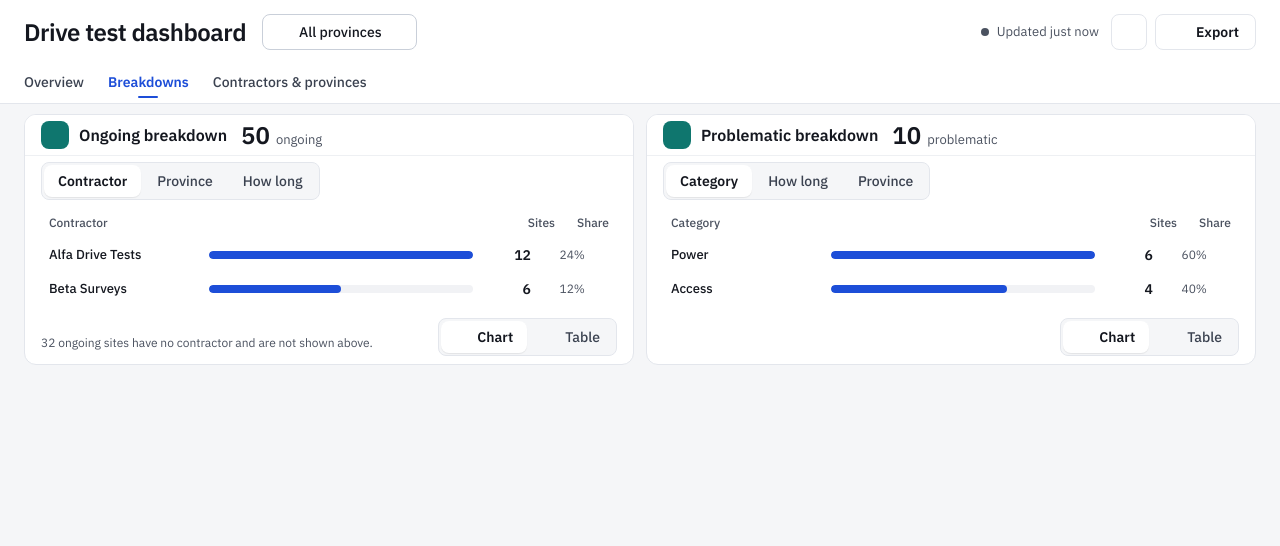
Test: breakdown sections › names the problematic sites it cannot age, rather than hiding them
Click the tab "How long" below "10" at (798, 181), box x1=754 y1=165 x2=842 y2=197
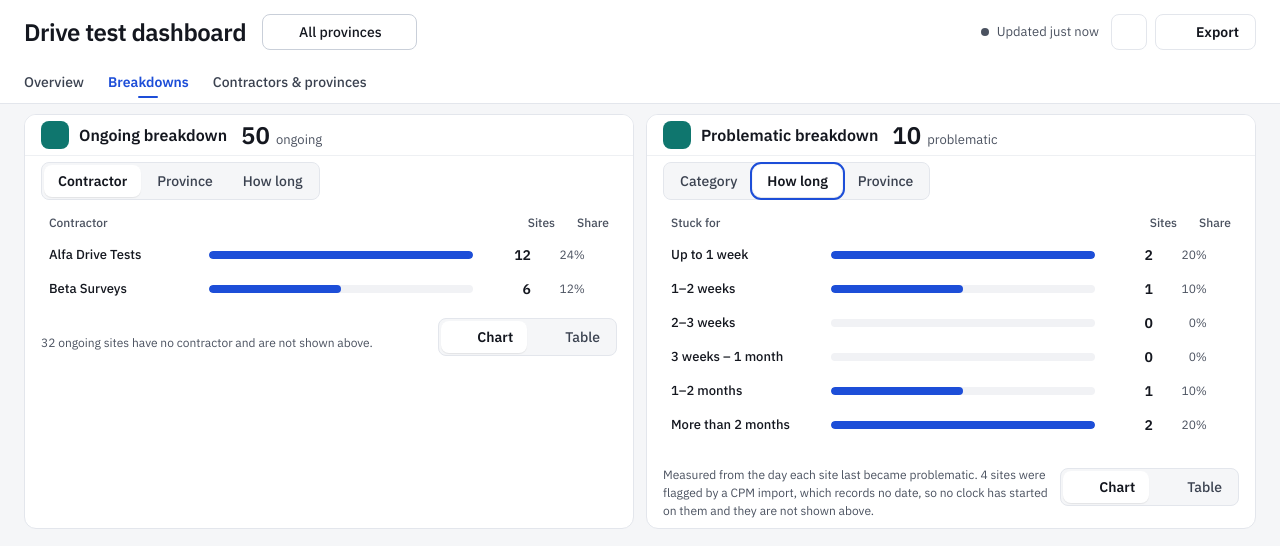
Expected: the text "4 sites were flagged by a CPM import" is shown, x1=663 y1=467 x2=1048 y2=518
